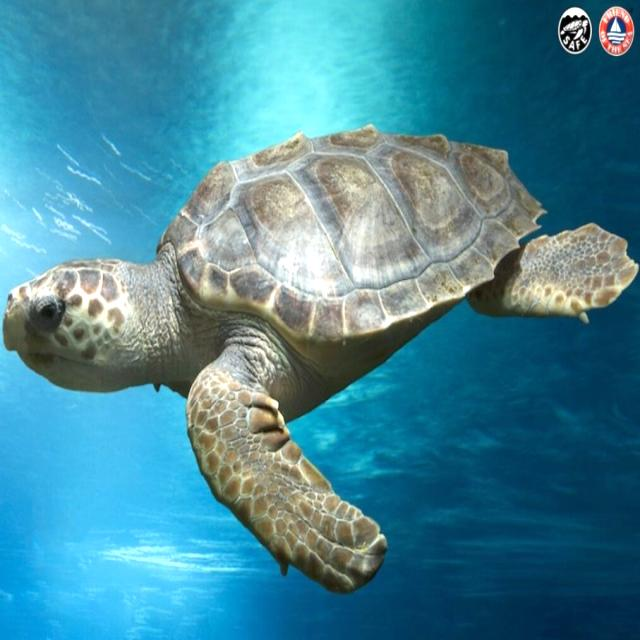Sea turtle: (0, 122, 636, 608)
